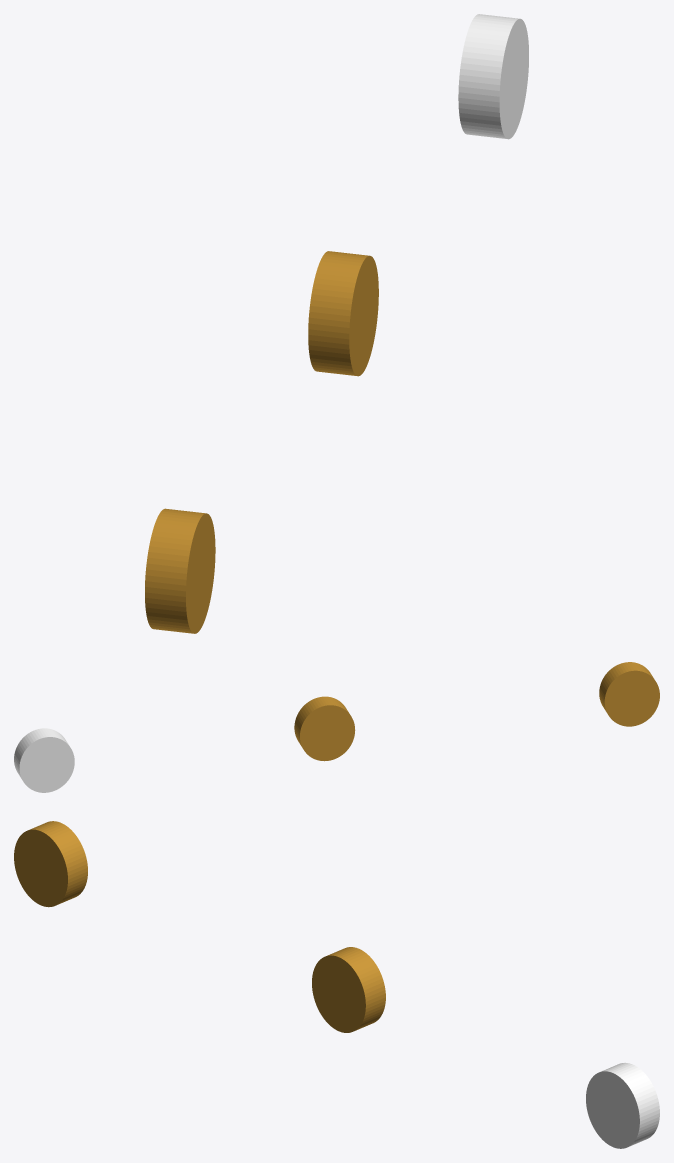
Rendered from Mapdots.gltf.
3 renders of one model, top to bottom at view 1: azimuth 30°, elevation 25°; view 2: azimuth 150°, elevation 25°; view 3: azimuth 270°, elevation 25°, orthographic. The views are drawn at different scales.
Bounding box in the file's own units: 49.26 × 6.24 × 49.26.
